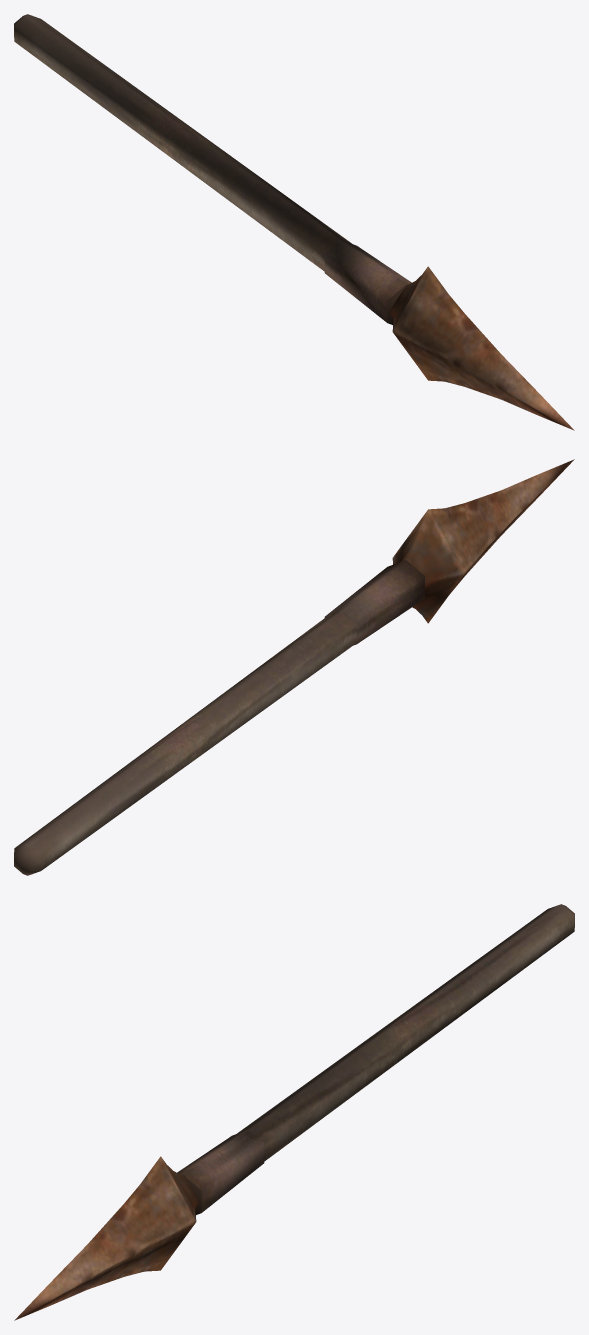
The picture shows the model from 3 angles, top to bottom: view 1: azimuth 30°, elevation 25°; view 2: azimuth 150°, elevation 25°; view 3: azimuth 330°, elevation 25°; orthographic projection.
Visible parts, largest first — view 1: mLance; view 2: mLance; view 3: mLance.
Part boxes in pixels (x1=…): mLance: x1=14, y1=14, x2=574, y2=430; mLance: x1=14, y1=459, x2=574, y2=875; mLance: x1=14, y1=904, x2=574, y2=1320.
Size of the model in its own units: 0.0696 by 0.107 by 0.9385.
1 material, 1 textured.
